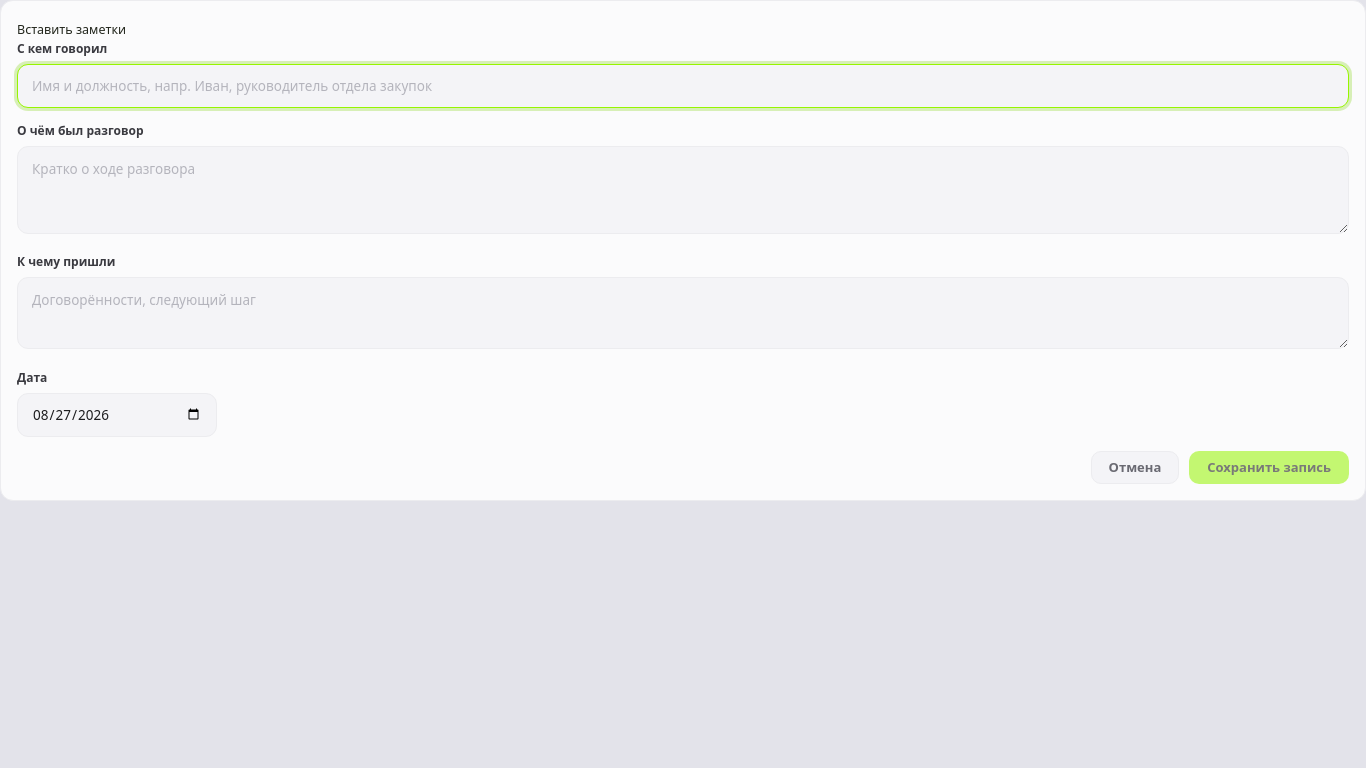
CallLogForm › voice memo recording (39.15) › skips transcription and returns to idle for an empty recording
The width and height of the screenshot is (1366, 768).
Click the button "Вставить заметки".
click(72, 30)  # box [17,21,126,40]
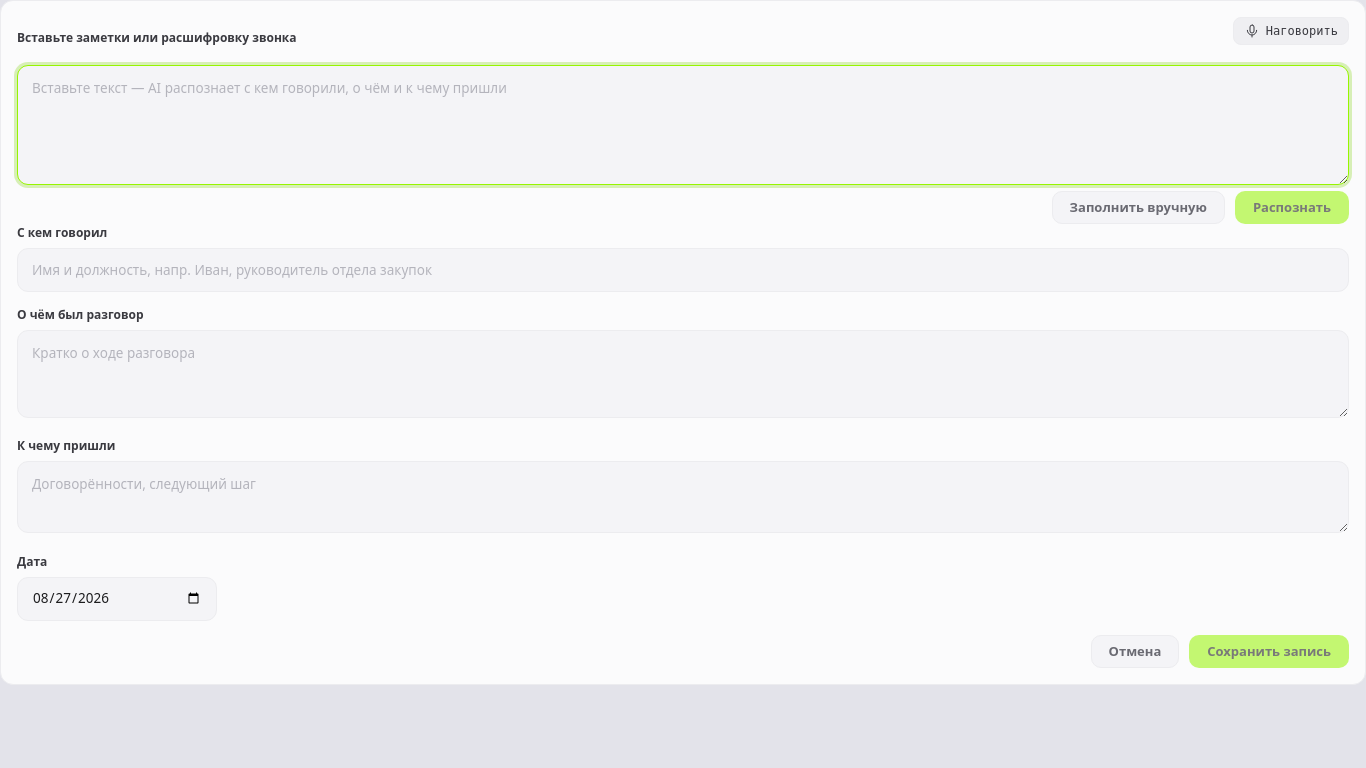
Click the button with aria-label "Наговорить заметку".
click(1291, 31)  # box [1233,17,1349,45]
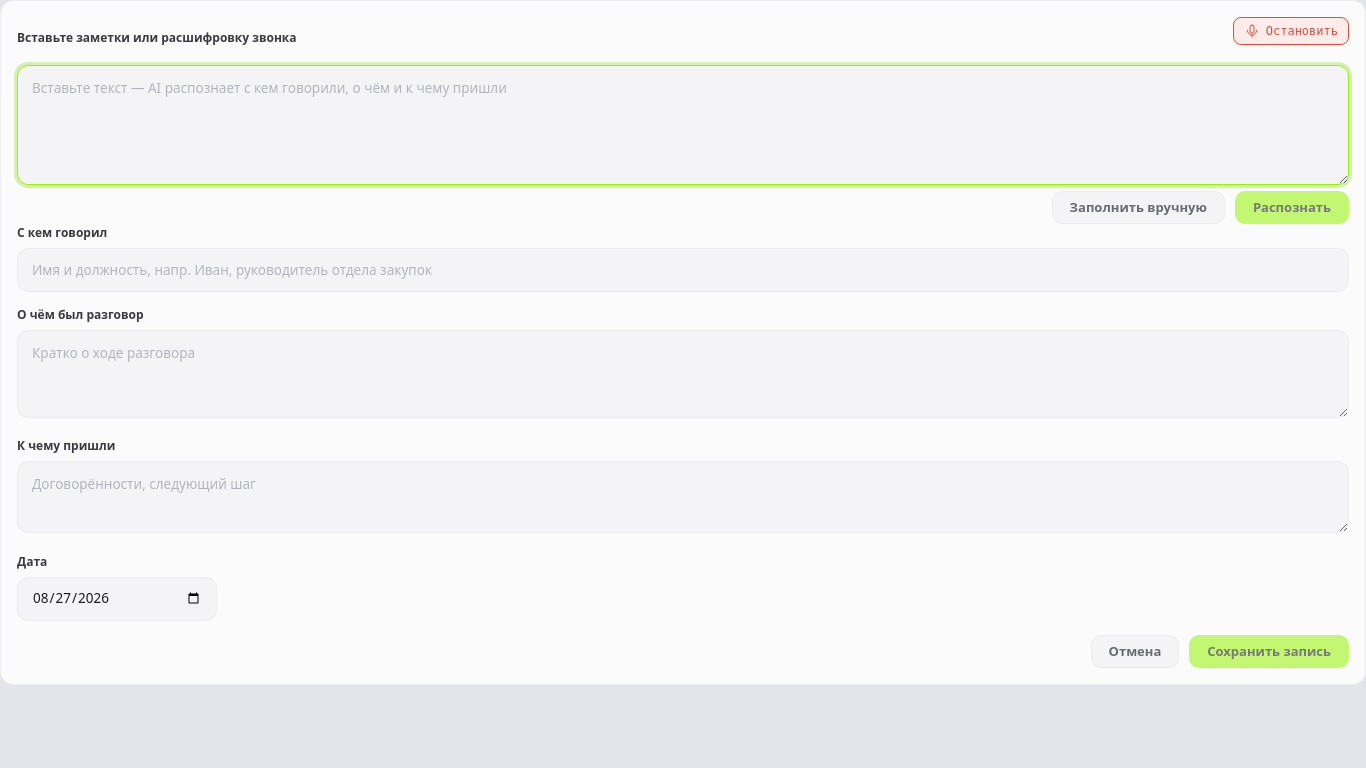
Result: the button with aria-label "Остановить запись" is shown
Click the button with aria-label "Остановить запись".
click(1291, 31)  # box [1233,17,1349,45]
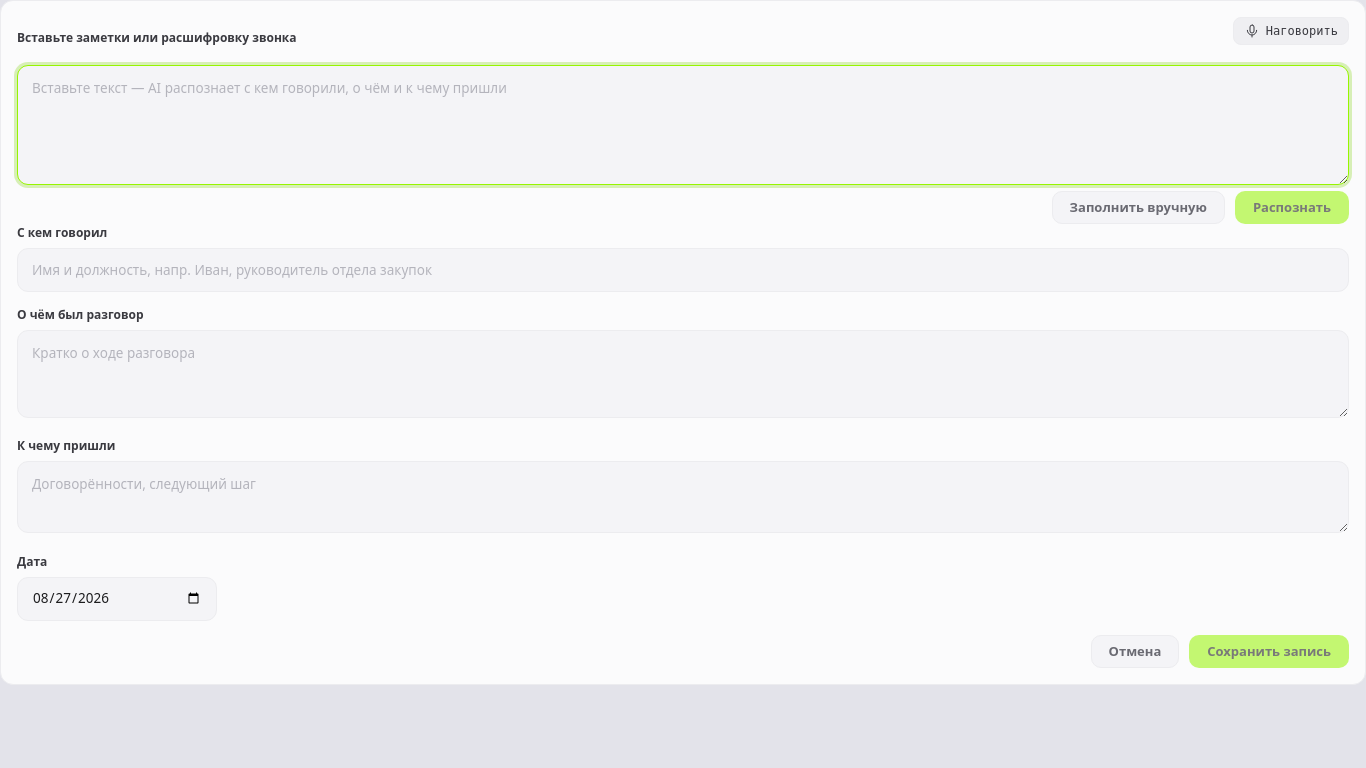
Result: the button with aria-label "Наговорить заметку" is shown at [1233,17,1349,45]
